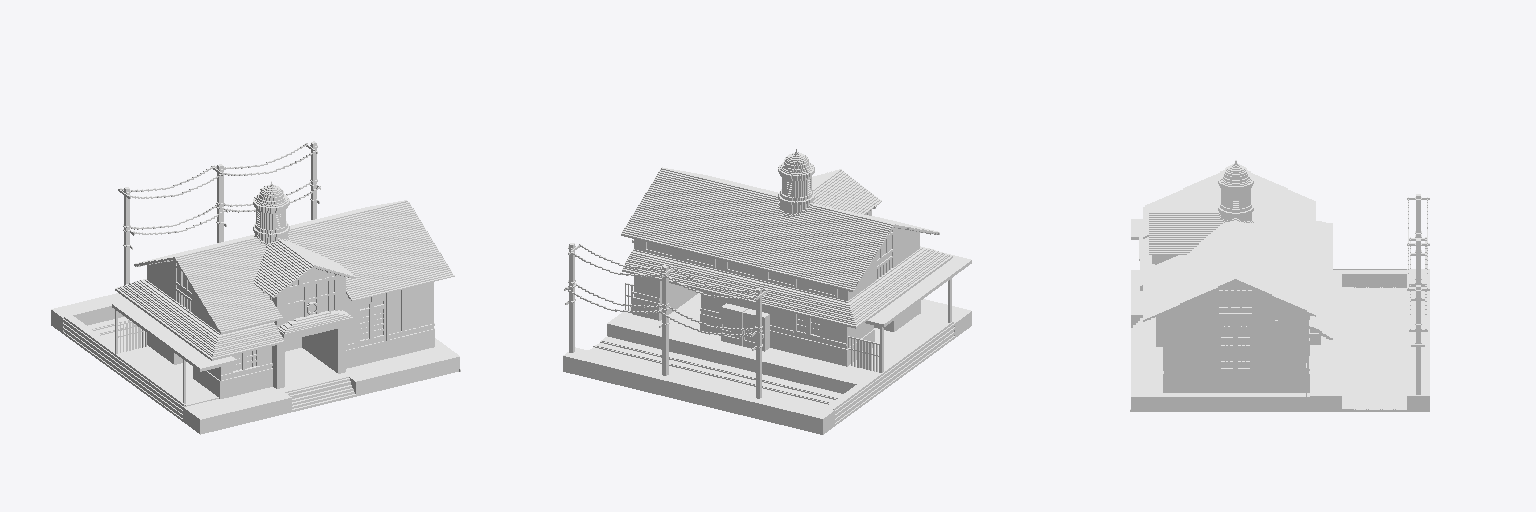
Rendered from GDS2_Rail-0.obj.
3 renders of one model, left to right at view 1: azimuth 30°, elevation 25°; view 2: azimuth 150°, elevation 25°; view 3: azimuth 270°, elevation 25°, orthographic.
Parts seen in each view (by area): view 1: GDS2_Rail-0; view 2: GDS2_Rail-0; view 3: GDS2_Rail-0.
Part boxes in pixels (bbox=[...]): GDS2_Rail-0: bbox=[51, 141, 460, 434]; GDS2_Rail-0: bbox=[563, 149, 971, 434]; GDS2_Rail-0: bbox=[1130, 160, 1429, 411].
Bounding box in the file's own units: 25.6 × 17.4 × 25.6.